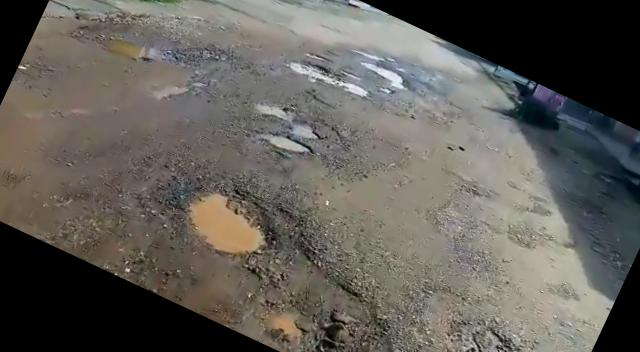pothole: (173, 174, 287, 272), (282, 47, 372, 104), (252, 95, 328, 144), (96, 25, 160, 71), (259, 122, 317, 162), (357, 55, 414, 91)
